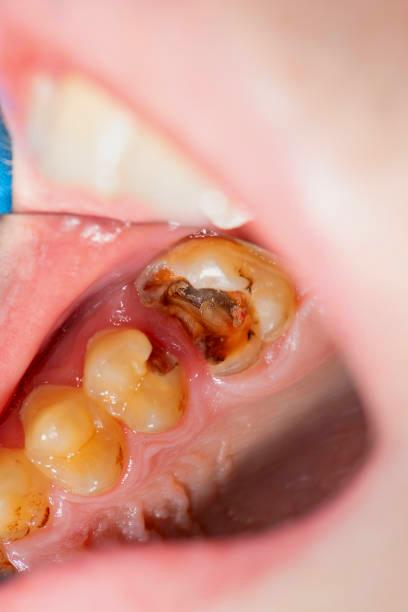Caries: (160, 257, 281, 361), (131, 336, 185, 398)
